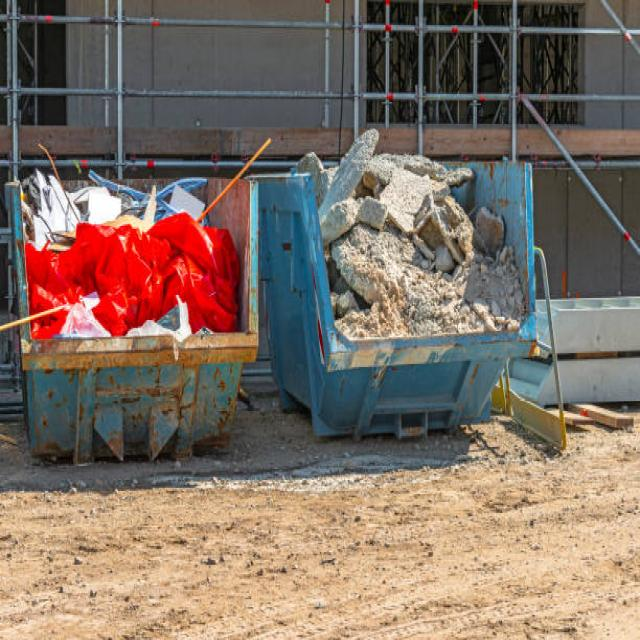trash: (319, 155, 518, 345), (29, 187, 224, 356)
